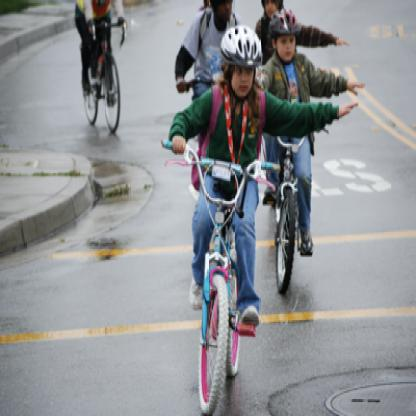With Helmet: (213, 19, 265, 99), (268, 7, 304, 64)
